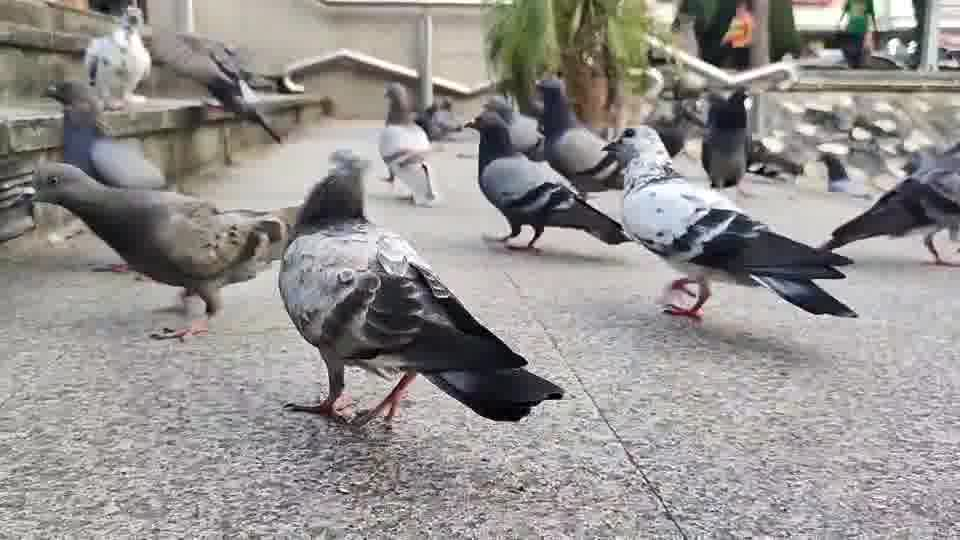Pigeon: (276, 148, 564, 428), (593, 124, 859, 320), (29, 158, 287, 340), (462, 108, 635, 251), (818, 166, 959, 266), (45, 79, 168, 190), (203, 45, 334, 144), (530, 76, 622, 194), (376, 80, 440, 205), (82, 6, 152, 111), (698, 84, 752, 189), (745, 138, 804, 181)
